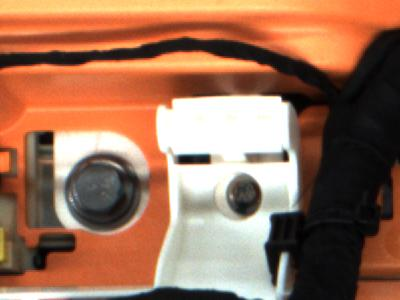nut_b: (64, 153, 143, 233)
